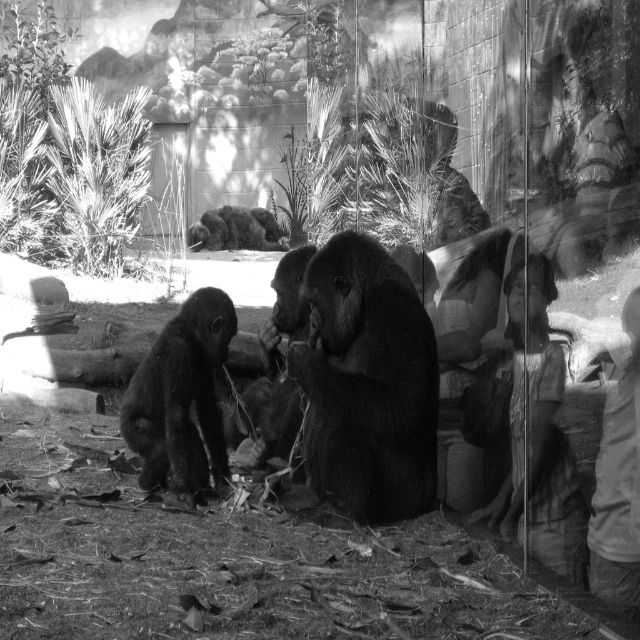Monkey: (120, 284, 236, 502)
